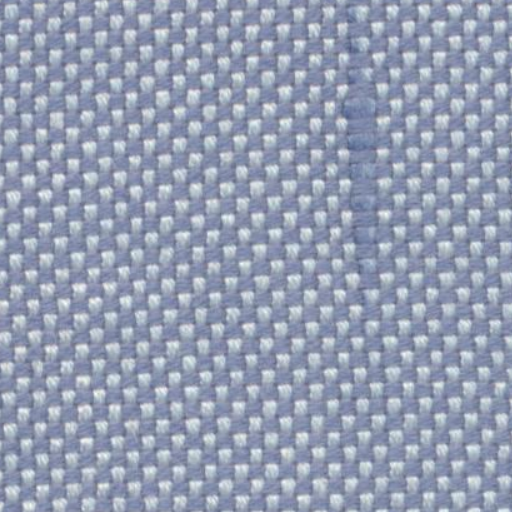DaiSha: (322, 6, 404, 336)
